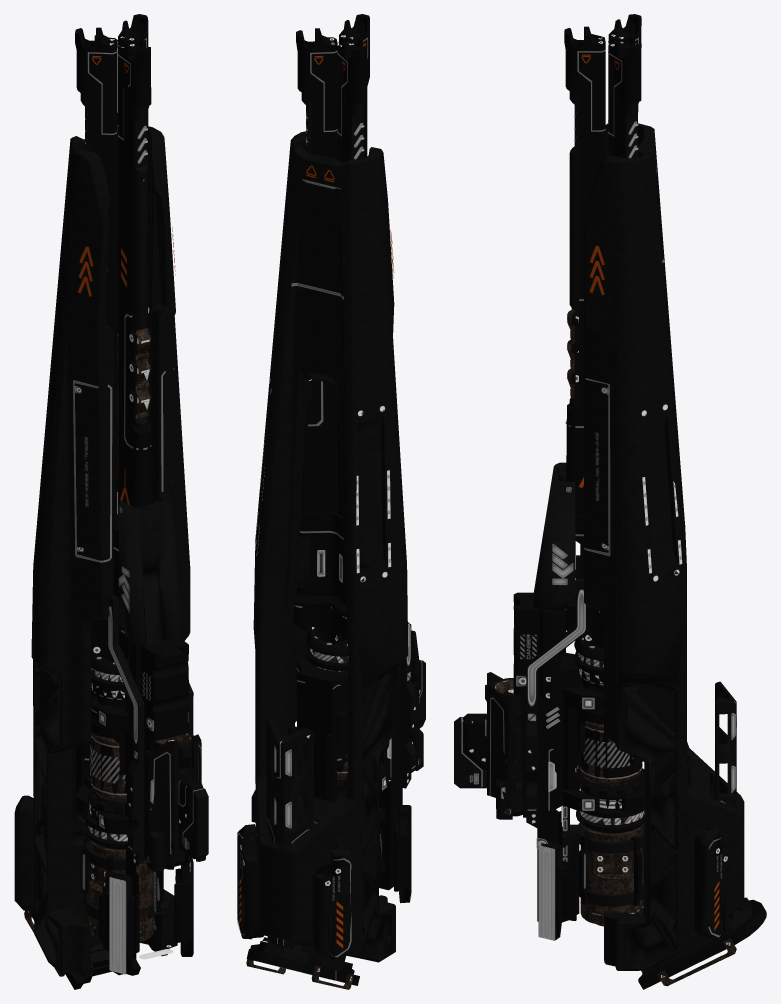
File: cf-337-panther-hazard-zone-repeater.glb
3 renders of one model, left to right at view 1: azimuth 30°, elevation 25°; view 2: azimuth 150°, elevation 25°; view 3: azimuth 270°, elevation 25°, orthographic. The views are drawn at different scales.
Visible parts, largest first — view 1: root; view 2: root; view 3: root.
Part boxes in pixels (x1,y1,x2,y2): root: [14, 14, 208, 989]; root: [237, 14, 425, 989]; root: [454, 14, 766, 989].
Size of the model in its own units: 0.5294 by 3.21 by 0.9645.
8 materials, 8 textured.
